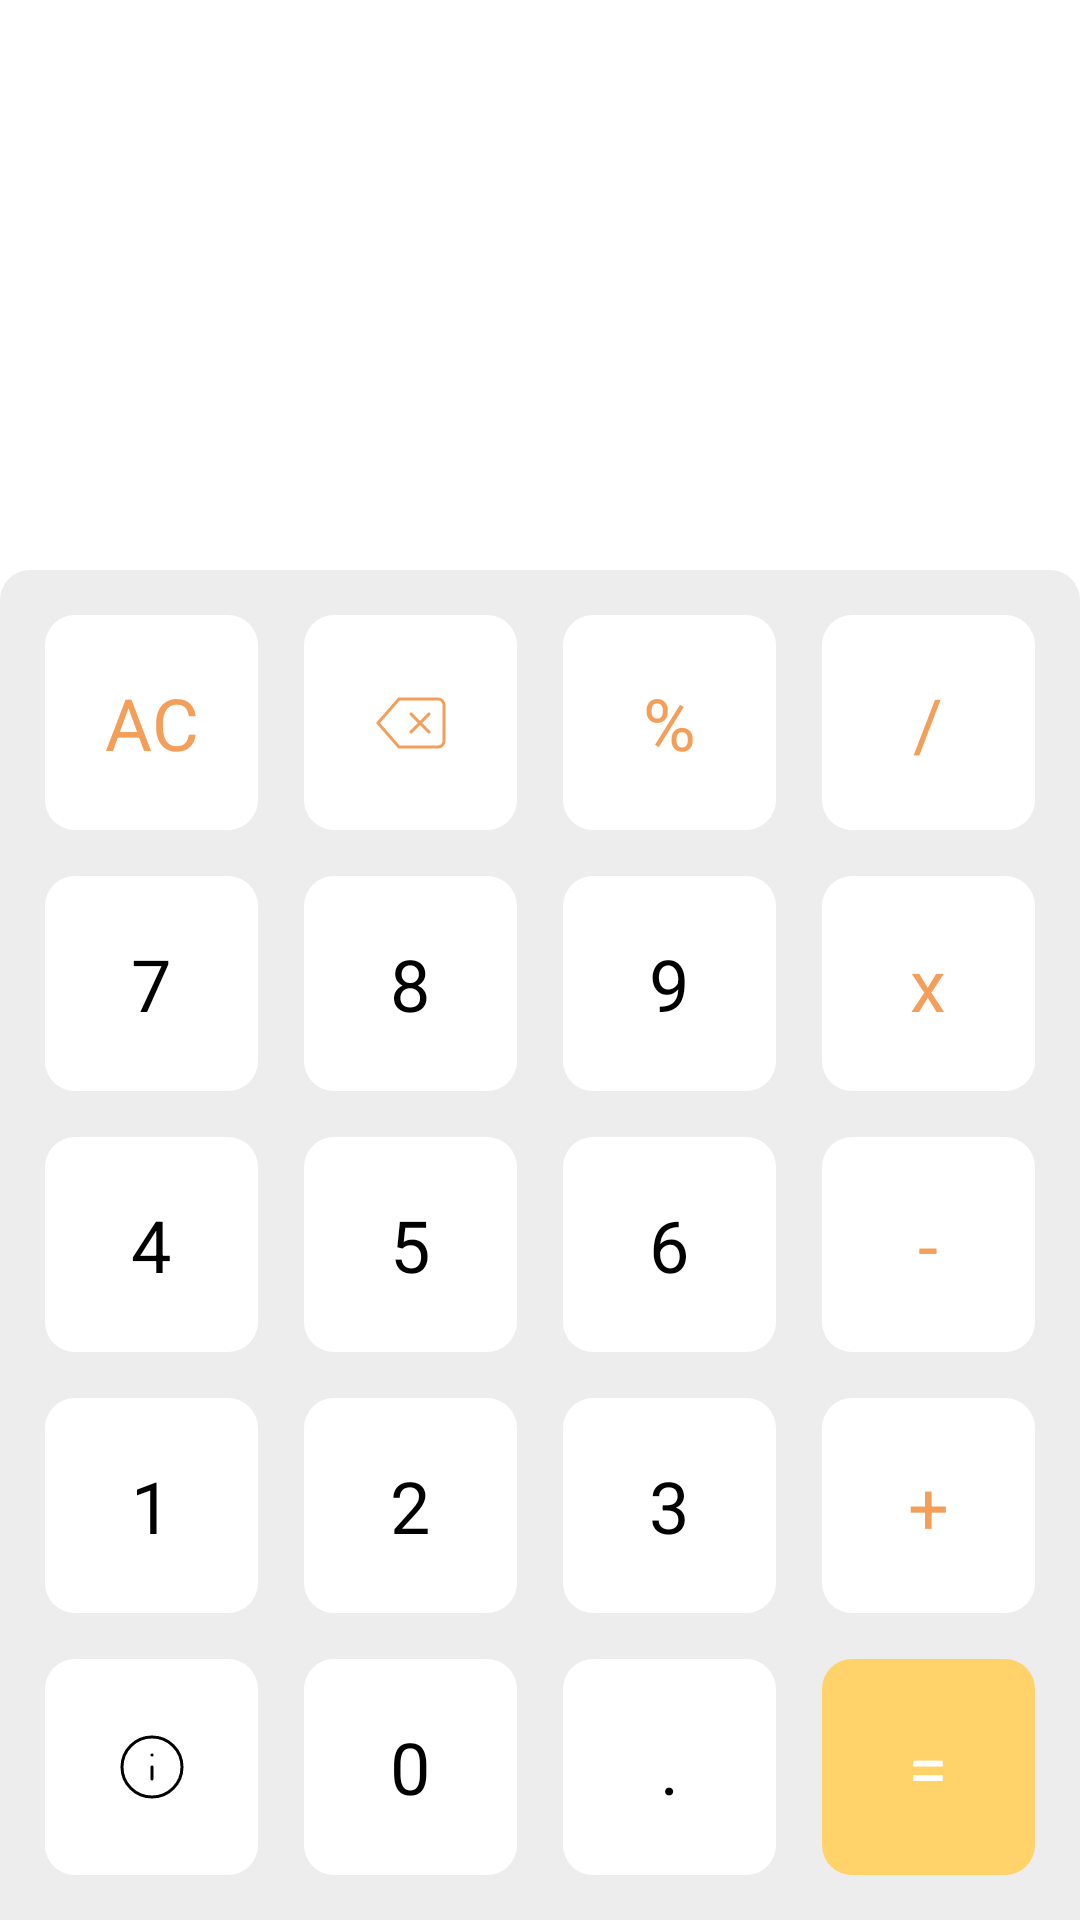

Icon bounding boxes for this 1080px x 1920px phone screenshot, format (x1, y1, x2, y2):
delete: (304, 615, 517, 830)
info: (45, 1659, 258, 1875)
